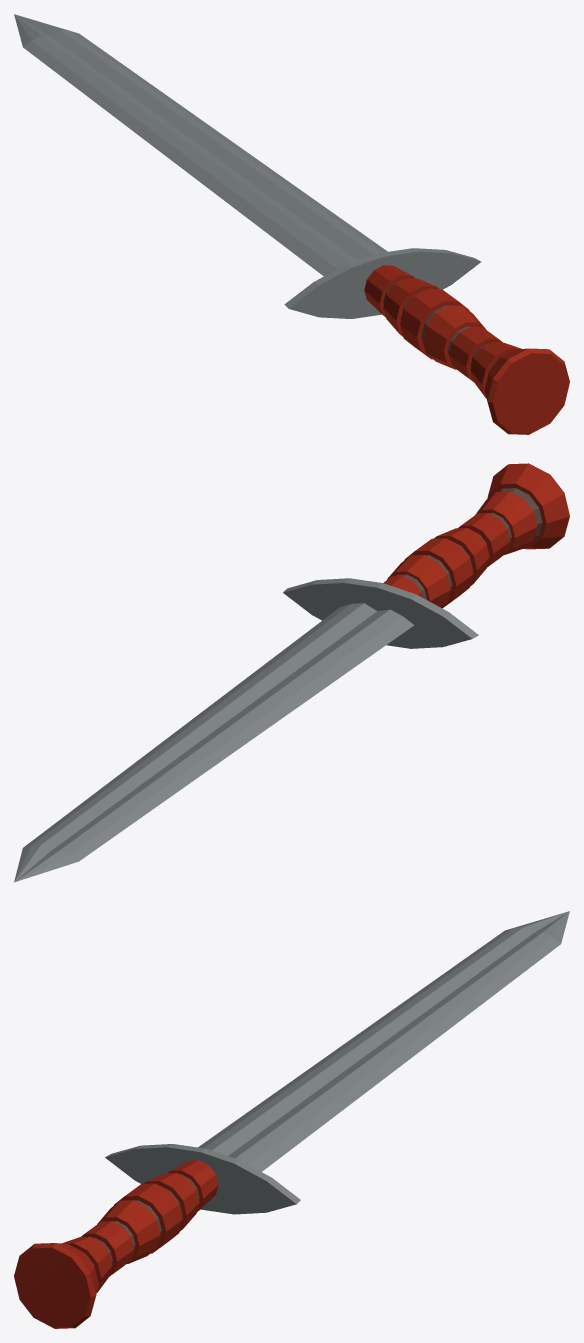
The model's file is scene_v9ywECHXOZ.glb.
The picture shows the model from 3 angles, top to bottom: view 1: azimuth 30°, elevation 25°; view 2: azimuth 150°, elevation 25°; view 3: azimuth 330°, elevation 25°; orthographic projection.
Parts seen in each view (by area): view 1: Dagger; view 2: Dagger; view 3: Dagger.
Boxes of the visible parts, x1,y1,x2,y2 form: Dagger: [14, 14, 569, 434]; Dagger: [14, 463, 569, 882]; Dagger: [14, 911, 569, 1328].
Size of the model in its own units: 0.1488 by 0.0637 by 0.6925.
1 material, 1 textured.
